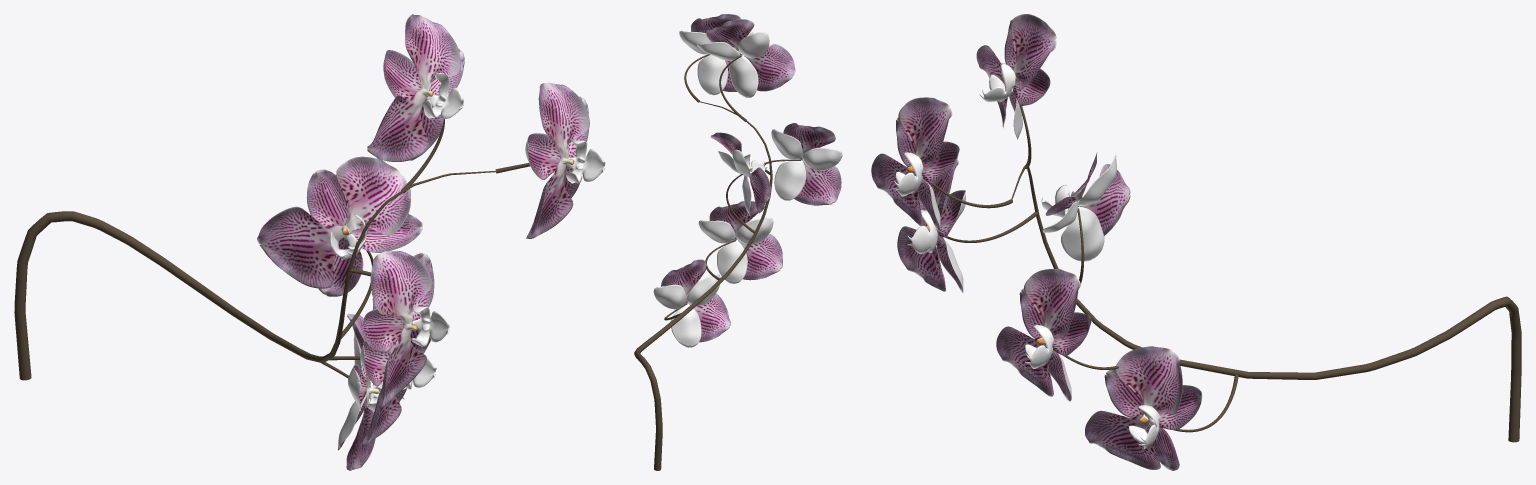
File: tengah-draco.glb
The picture shows the model from 3 angles, left to right: view 1: azimuth 30°, elevation 25°; view 2: azimuth 150°, elevation 25°; view 3: azimuth 270°, elevation 25°; orthographic projection. The views are drawn at different scales.
Parts seen in each view (by area): view 1: GN Instance; view 2: GN Instance; view 3: GN Instance.
Part boxes in pixels (left/top/right/bottom): GN Instance: left=14, top=14, right=605, bottom=470; GN Instance: left=634, top=14, right=842, bottom=470; GN Instance: left=871, top=14, right=1521, bottom=470.
Size of the model in its own units: 1.95 by 3.53 by 4.31.
Materials: 10 (6 with a texture image).
